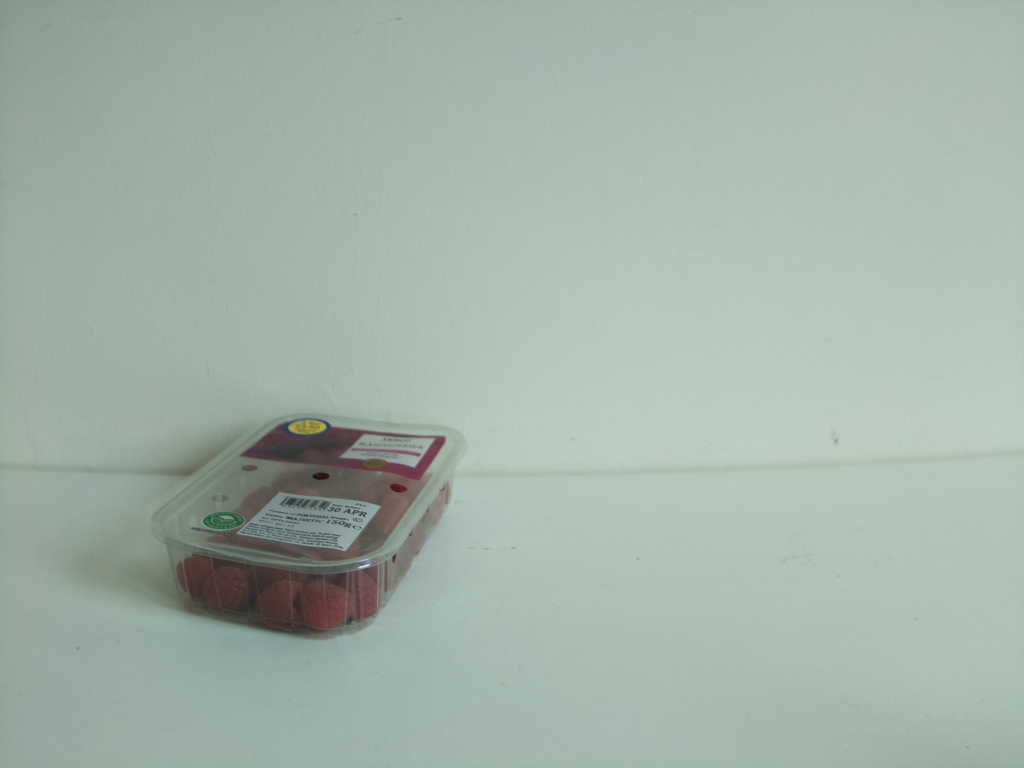soft-fruit: (161, 414, 461, 635)
